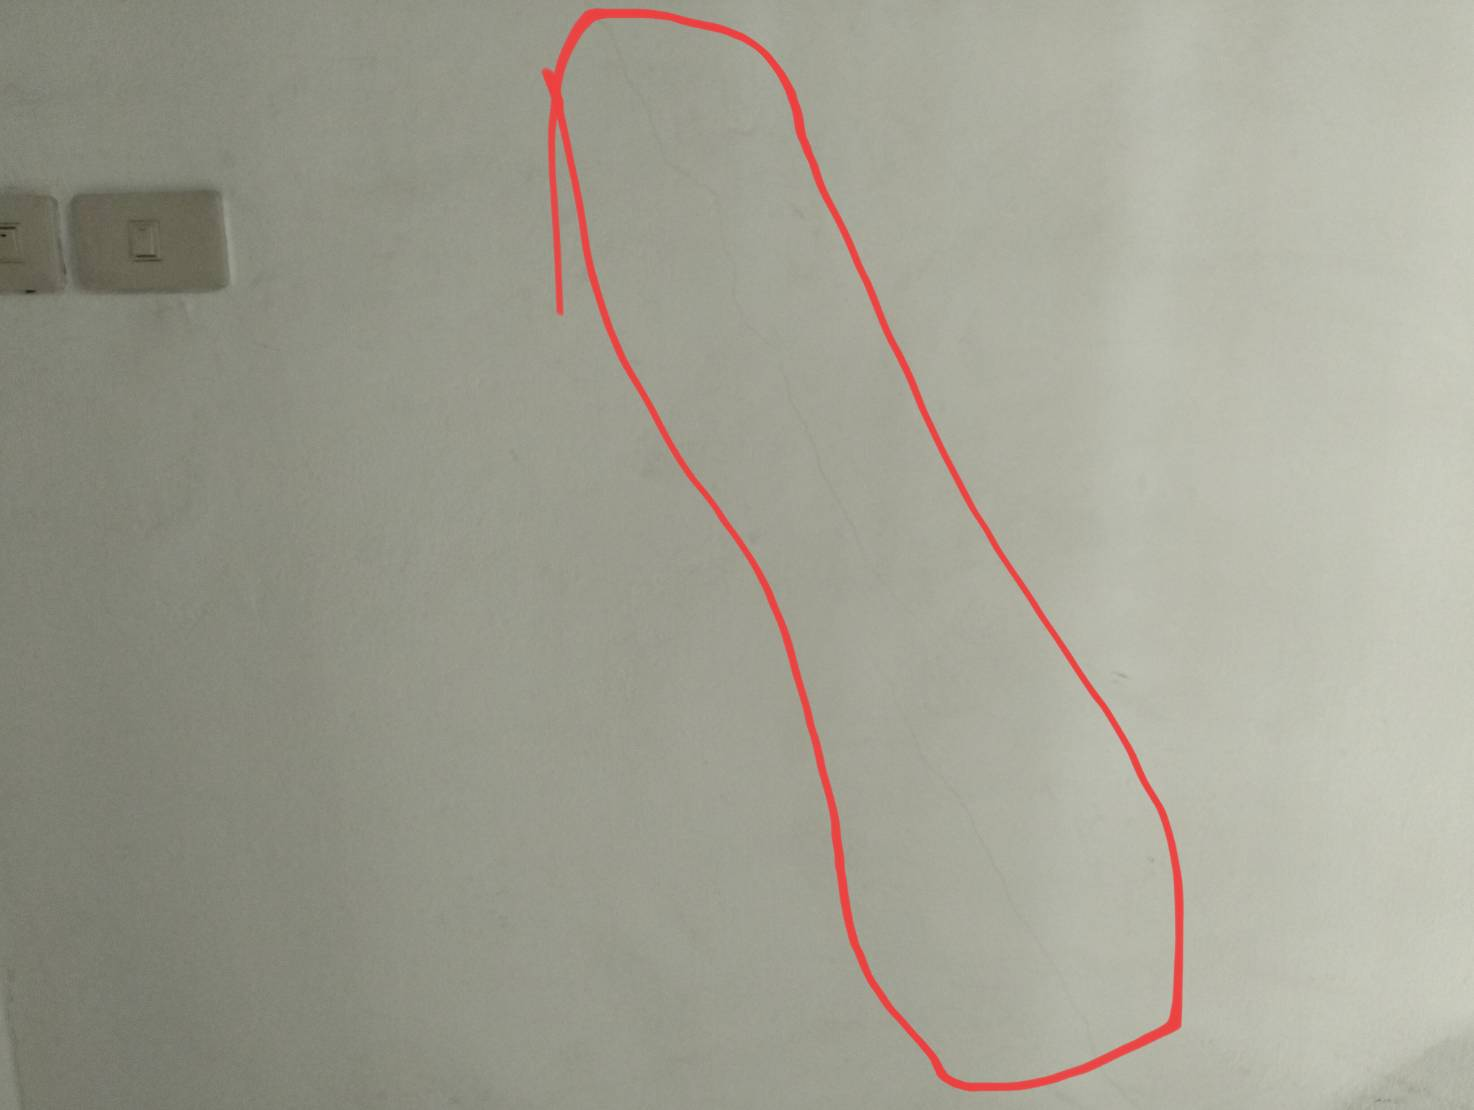Low: (606, 43, 1126, 1063)
